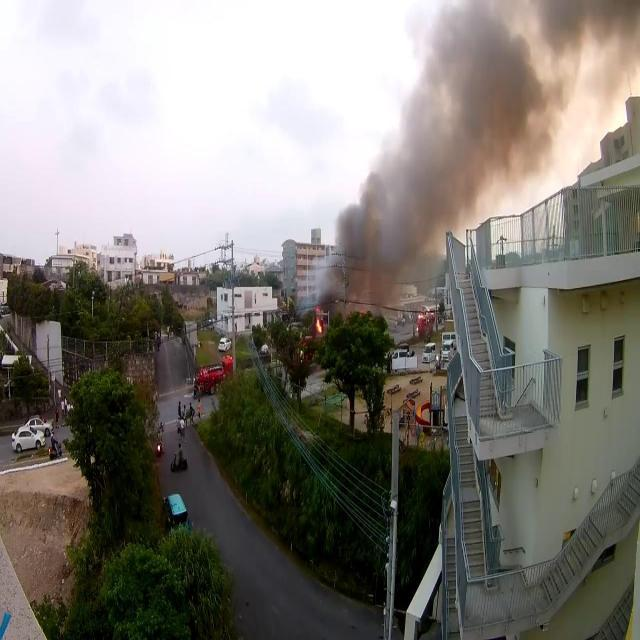Fire: (315, 319, 323, 332)
Smoke: (377, 0, 640, 151), (315, 168, 484, 306)
